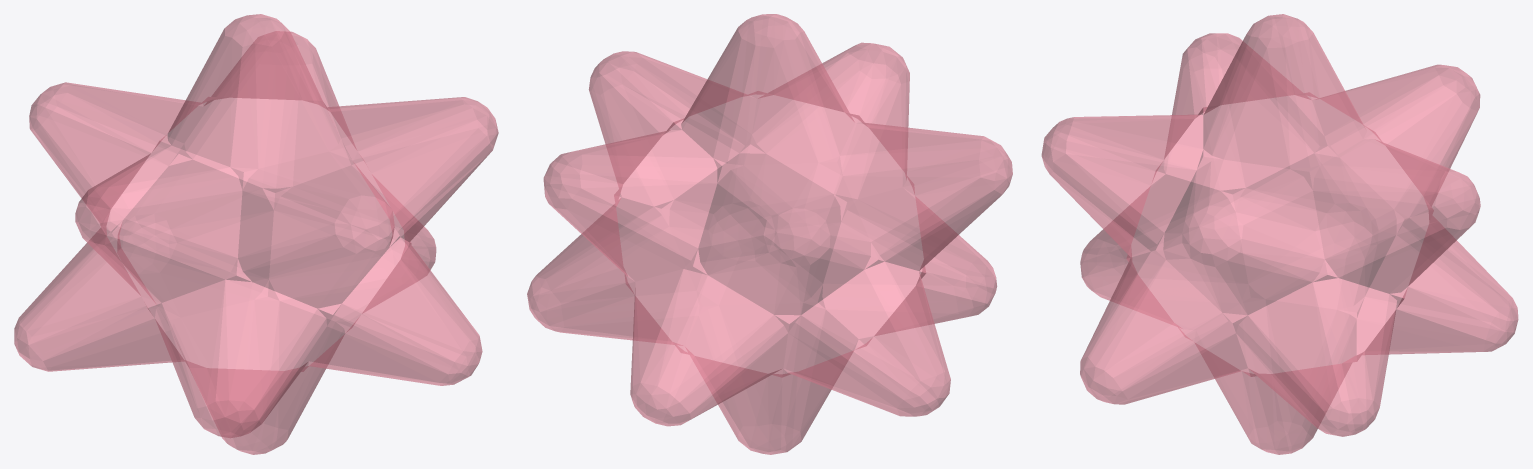
The model's file is star.gltf.
The picture shows the model from 3 angles, left to right: view 1: azimuth 30°, elevation 25°; view 2: azimuth 150°, elevation 25°; view 3: azimuth 270°, elevation 25°; orthographic projection.
Visible parts, largest first — view 1: star; view 2: star; view 3: star.
Boxes of the visible parts, x1=… form: star: x1=14, y1=14, x2=498, y2=454; star: x1=527, y1=14, x2=1012, y2=454; star: x1=1041, y1=14, x2=1518, y2=454.
Bounding box in the file's own units: 0.2 × 0.2 × 0.2.
